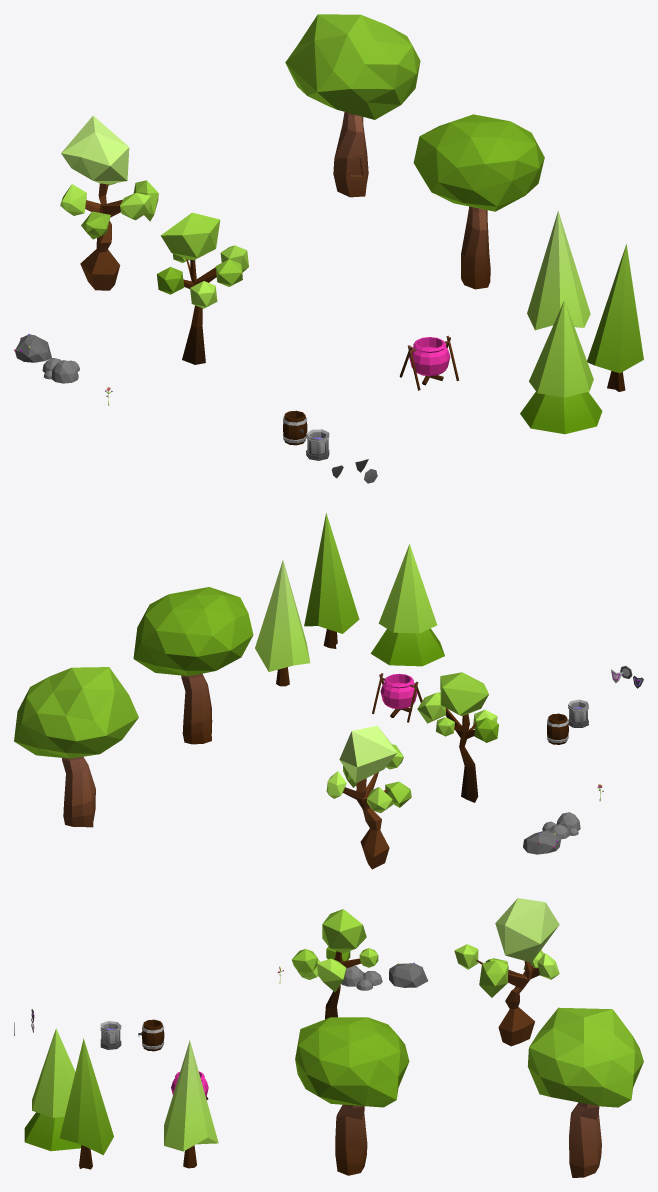
The model's file is OutDoor_Assets.fbx.
3 views of the same model, one above another, from view 1: azimuth 30°, elevation 25°; view 2: azimuth 150°, elevation 25°; view 3: azimuth 270°, elevation 25° (orthographic). The views are drawn at different scales.
Visible parts, largest first — view 1: Tree1, Tree2, Tree3, ChristmassTree2, Tree4, ChristmassTree3, ChristmassTree1, Pot, Bush, Icosphere.002, Barrel, Collumn; view 2: Tree1, Tree2, Tree3, ChristmassTree2, Tree4, ChristmassTree3, ChristmassTree1, Pot, Bush, Icosphere.002, Barrel, Collumn; view 3: Tree1, Tree2, Tree3, ChristmassTree2, Tree4, ChristmassTree1, ChristmassTree3, Bush, Icosphere.002, Barrel, Collumn.
Boxes of the visible parts, bbox=[...] form: Tree1: bbox=[285, 14, 420, 197]; Tree2: bbox=[413, 114, 544, 289]; Tree3: bbox=[60, 115, 158, 290]; ChristmassTree2: bbox=[520, 300, 602, 434]; Tree4: bbox=[157, 212, 248, 364]; ChristmassTree3: bbox=[587, 244, 643, 391]; ChristmassTree1: bbox=[527, 211, 590, 330]; Pot: bbox=[409, 337, 450, 376]; Bush: bbox=[14, 333, 51, 362]; Icosphere.002: bbox=[42, 358, 79, 383]; Barrel: bbox=[283, 410, 307, 445]; Collumn: bbox=[306, 429, 329, 460]; Tree1: bbox=[14, 667, 138, 827]; Tree2: bbox=[133, 587, 253, 744]; Tree3: bbox=[326, 725, 411, 869]; ChristmassTree2: bbox=[370, 544, 444, 666]; Tree4: bbox=[417, 672, 498, 802]; ChristmassTree3: bbox=[304, 513, 359, 648]; ChristmassTree1: bbox=[255, 560, 310, 686]; Pot: bbox=[380, 673, 417, 709]; Bush: bbox=[523, 830, 560, 854]; Icosphere.002: bbox=[542, 812, 580, 839]; Barrel: bbox=[547, 713, 568, 744]; Collumn: bbox=[568, 699, 588, 727]; Tree1: bbox=[527, 1007, 643, 1177]; Tree2: bbox=[295, 1017, 409, 1175]; Tree3: bbox=[454, 898, 559, 1046]; ChristmassTree2: bbox=[24, 1028, 81, 1151]; Tree4: bbox=[292, 909, 378, 1019]; ChristmassTree1: bbox=[164, 1040, 218, 1168]; ChristmassTree3: bbox=[59, 1038, 113, 1169]; Bush: bbox=[389, 962, 427, 987]; Icosphere.002: bbox=[341, 966, 382, 990]; Barrel: bbox=[138, 1019, 164, 1051]; Collumn: bbox=[100, 1021, 121, 1049].
Size of the model in its own units: 4715 by 1691 by 5743.
